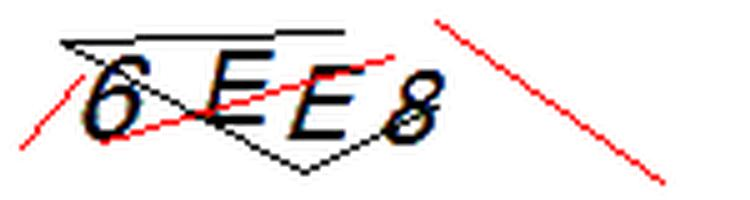6: (74, 48, 167, 144)
8: (376, 61, 452, 151)
E: (282, 55, 365, 152), (197, 41, 278, 133)
